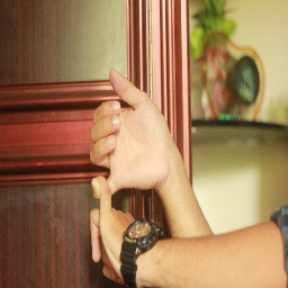S: (76, 66, 181, 283)
